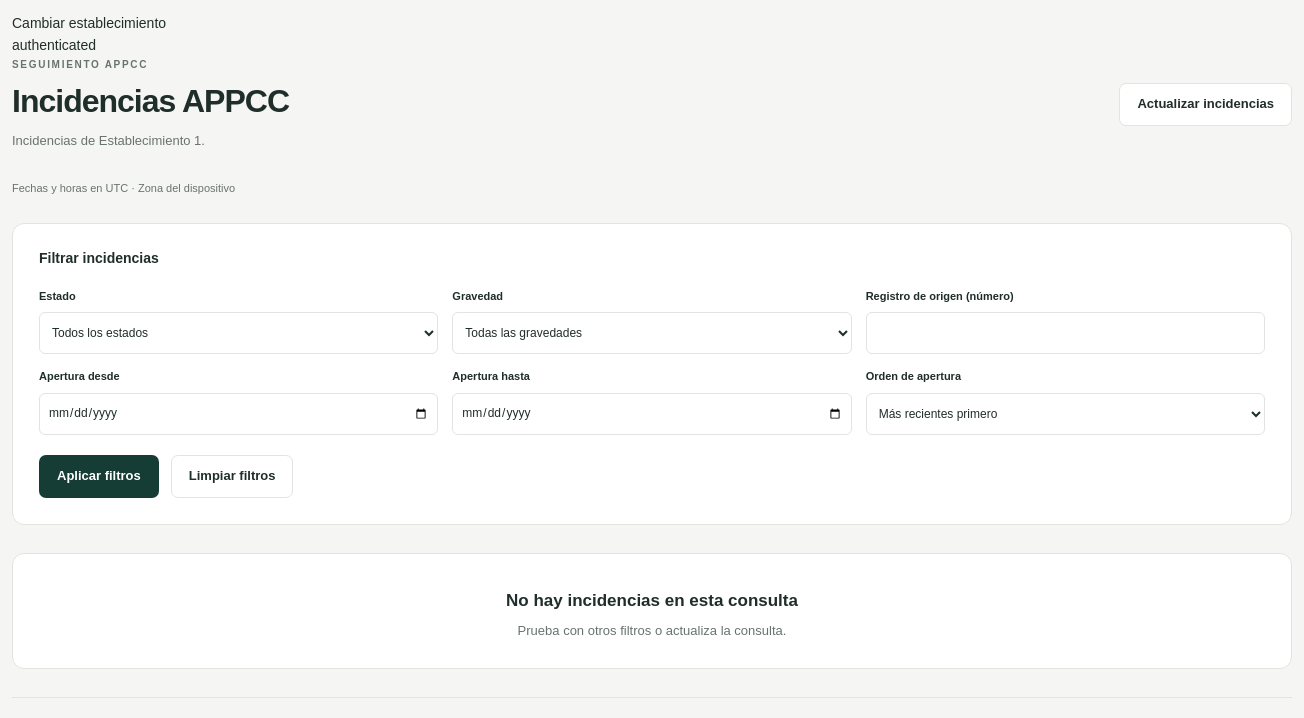
filtros inválidos no consultan y una consulta vacía ofrece recuperación
Check: the heading "No hay incidencias en esta consulta" is shown, box [506,591,798,610]
Type "-4" into the field labelled "Registro de origen (número)". click: (1065, 333)
box: [866,312,1265,354]
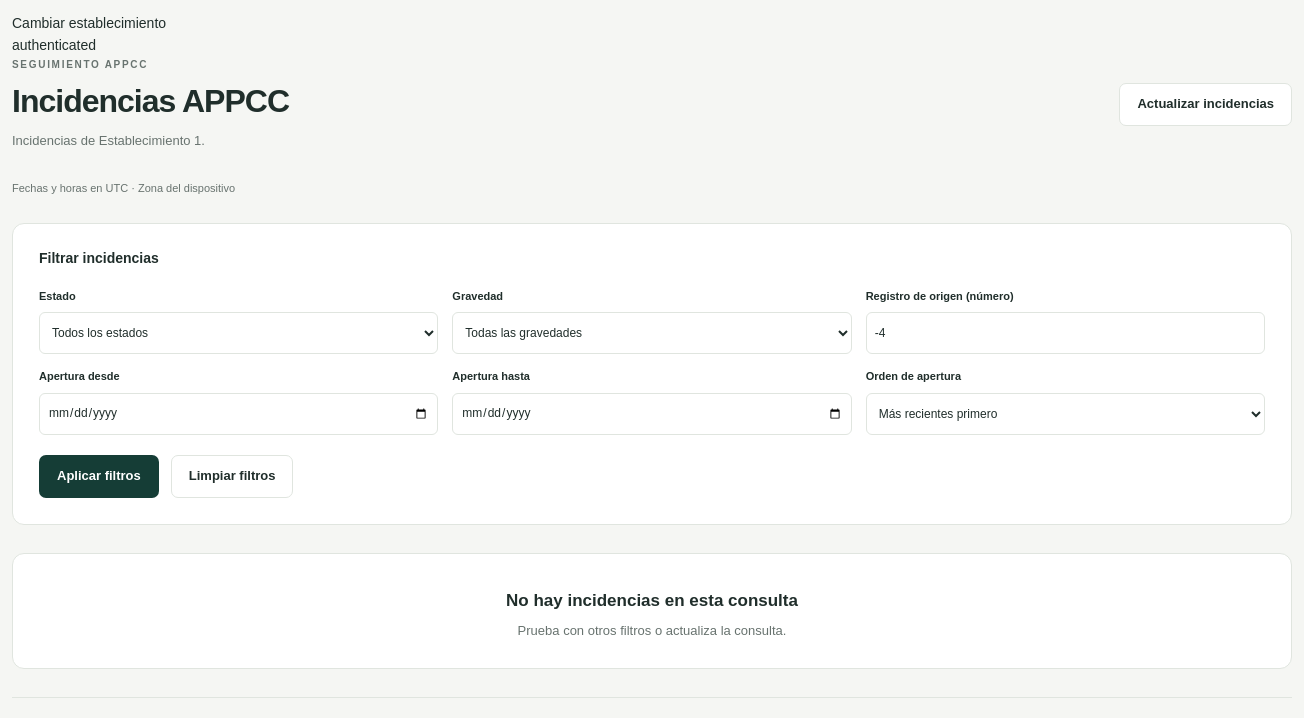
Click the button "Aplicar filtros". click: (99, 476)
box: [39,455,159,498]
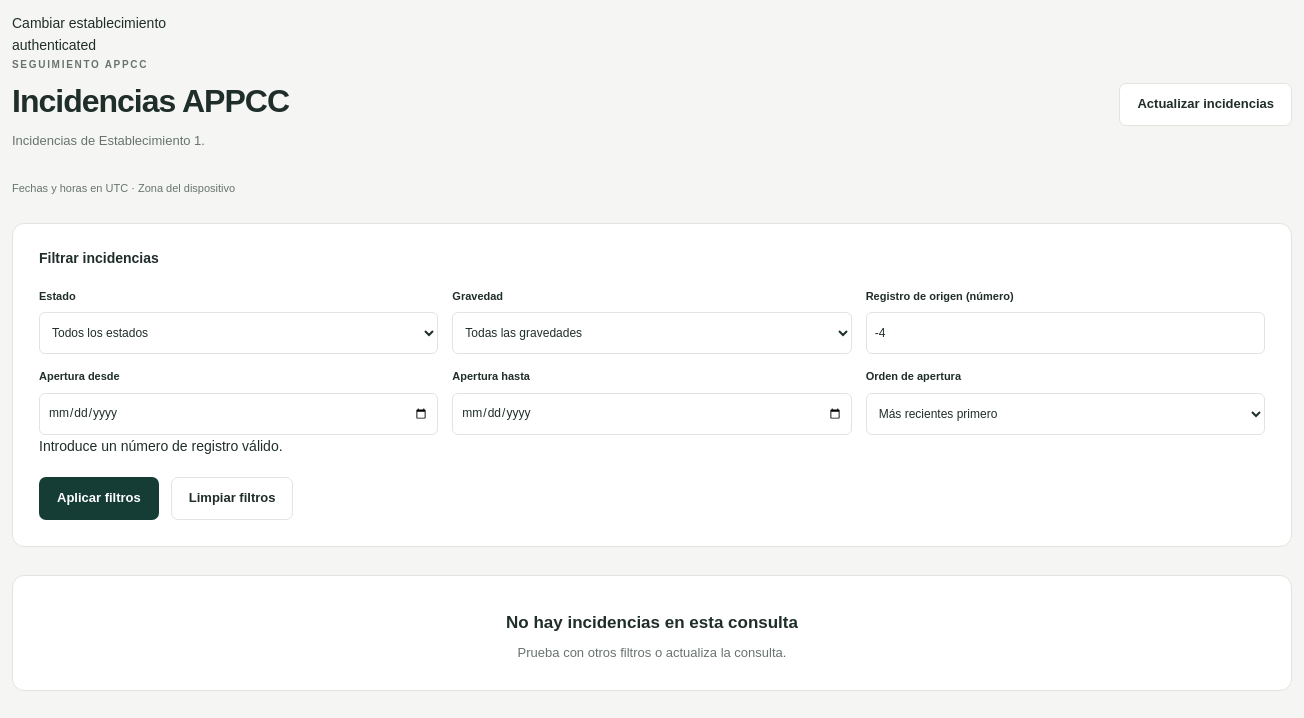
Check: the message shows "número de registro válido", box [39,438,283,454]
